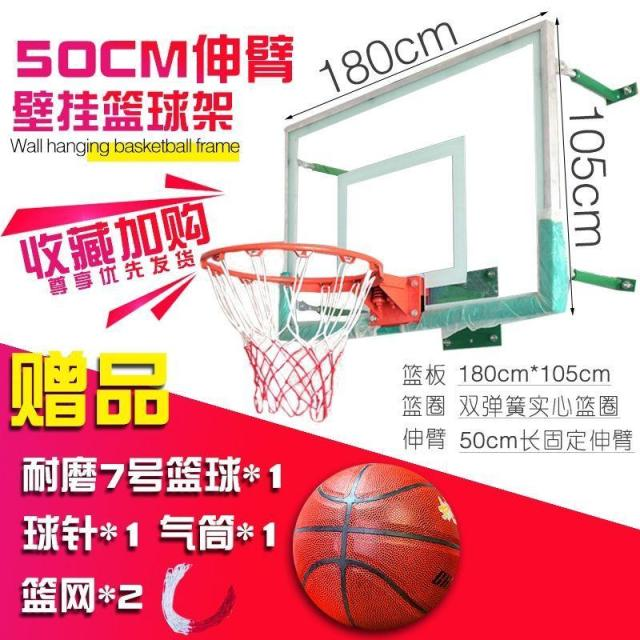basketball: (294, 461, 462, 634)
hoop: (198, 244, 383, 425)
